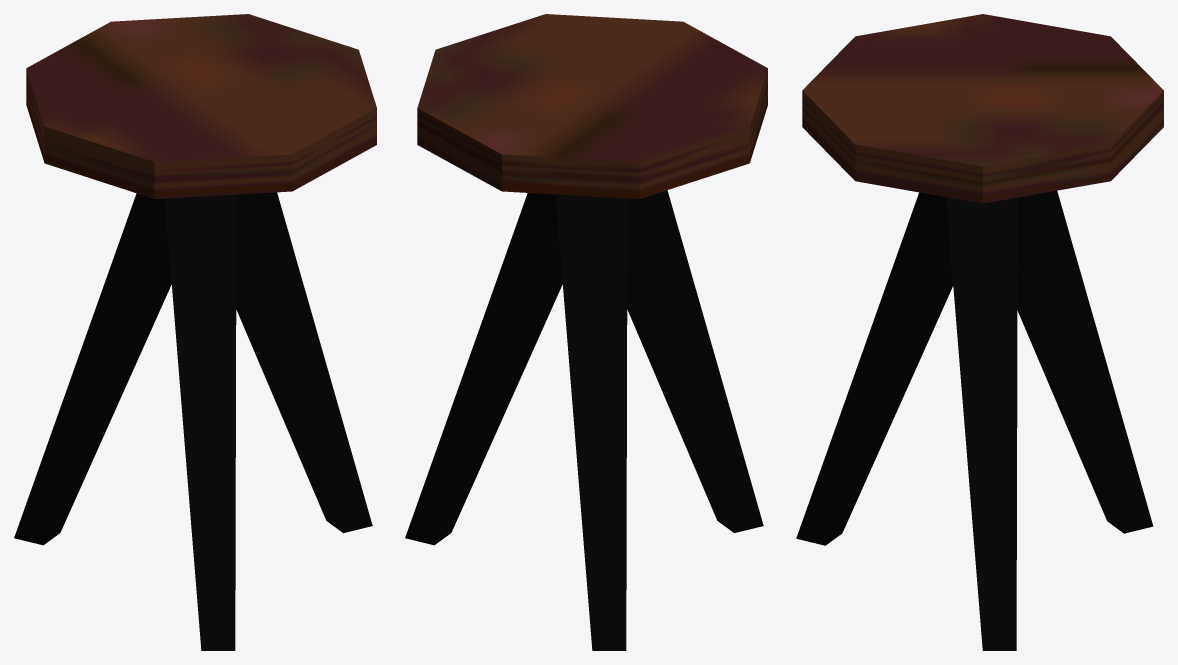
The model's file is CircleTable.fbx.
3 renders of one model, left to right at view 1: azimuth 30°, elevation 25°; view 2: azimuth 150°, elevation 25°; view 3: azimuth 270°, elevation 25°, orthographic.
Parts seen in each view (by area): view 1: CircleTable; view 2: CircleTable; view 3: CircleTable.
Boxes of the visible parts, box(x1,y1,x2,y2) form: CircleTable: box(14, 14, 376, 650); CircleTable: box(405, 14, 767, 650); CircleTable: box(796, 14, 1163, 650).
Bounding box in the file's own units: 152 × 213 × 148.
